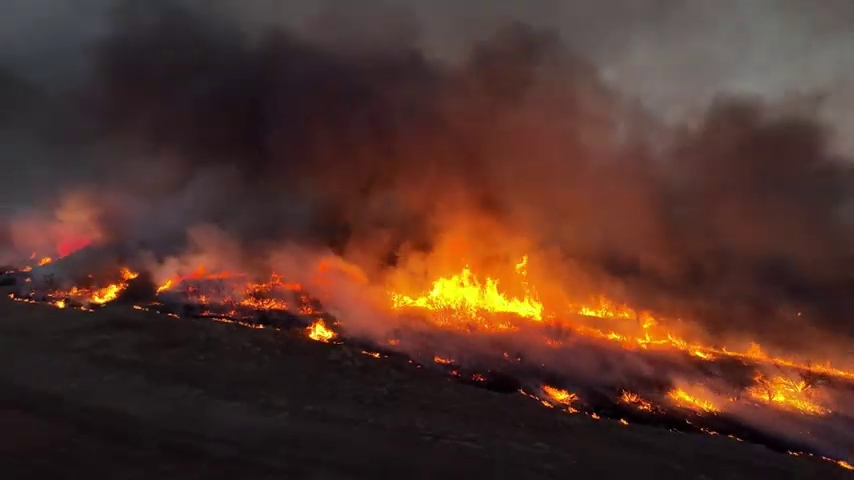forest_fire: (570, 299, 853, 414), (391, 267, 554, 331), (48, 268, 137, 307), (232, 275, 303, 310), (299, 299, 337, 342), (665, 385, 722, 411), (540, 385, 577, 404), (618, 391, 652, 411)
